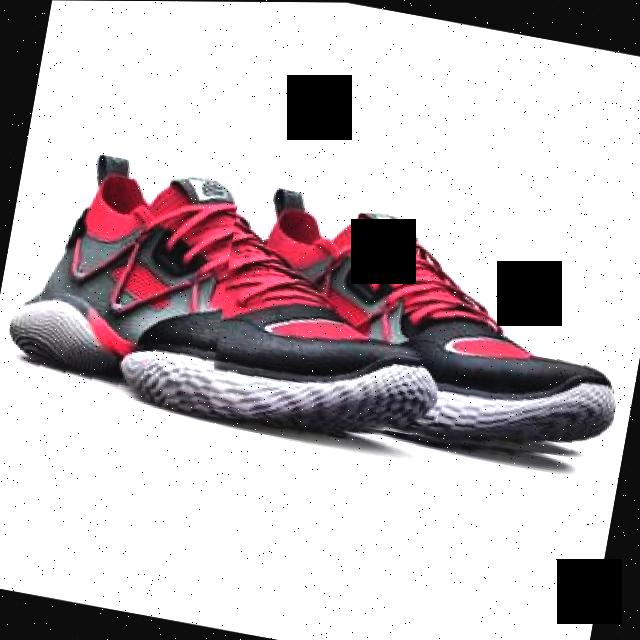shoe: (1, 144, 467, 452), (201, 180, 640, 476)
